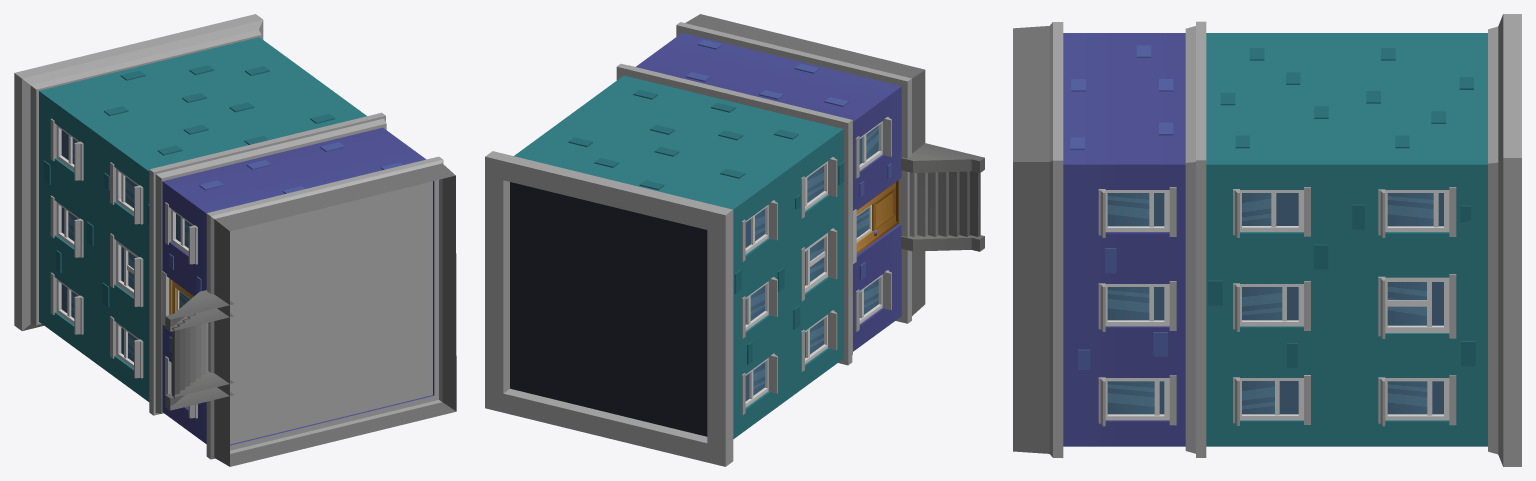
The model's file is Building_2_7_I.fbx.
The picture shows the model from 3 angles, left to right: view 1: azimuth 30°, elevation 25°; view 2: azimuth 150°, elevation 25°; view 3: azimuth 270°, elevation 25°; orthographic projection. The views are drawn at different scales.
Parts seen in each view (by area): view 1: Building_2_7_I; view 2: Building_2_7_I; view 3: Building_2_7_I.
Part boxes in pixels (box(x1,y1,x2,y2)): Building_2_7_I: box(14, 14, 456, 466); Building_2_7_I: box(485, 14, 984, 466); Building_2_7_I: box(1013, 14, 1521, 466).
Size of the model in its own units: 754 by 620 by 926.
